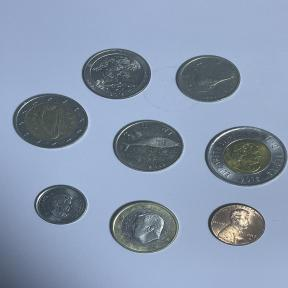coin: (200, 120, 288, 194), (6, 91, 88, 153), (104, 196, 186, 258), (109, 115, 187, 177), (76, 46, 154, 102), (202, 198, 270, 248), (30, 180, 90, 228)
